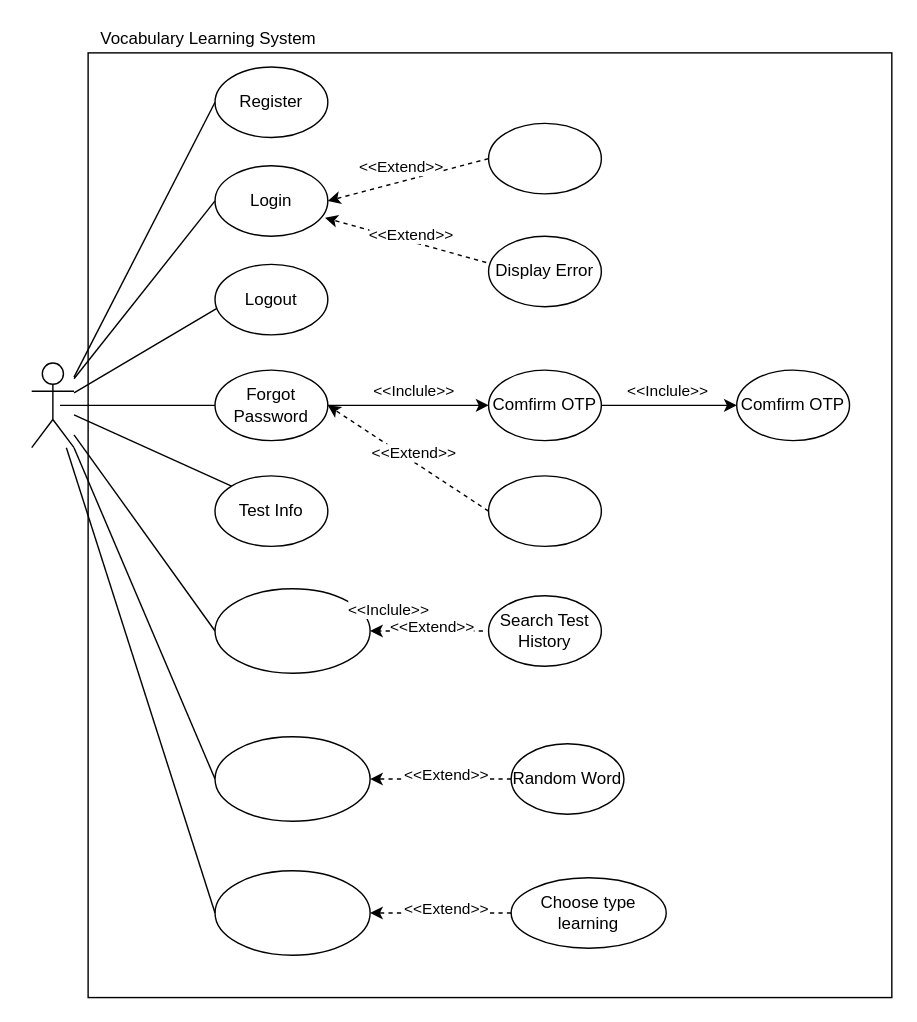
Some shapes in this 917 by 1022 pixel diagram are drawn without their labels. The centre of each missing label's shape, as x and y in pixels:
Learning: pixel 292 912
Make test: pixel 292 778
Send OTP: pixel 544 510
Student: pixel 52 405
Test History List: pixel 292 630
Verify Password: pixel 544 158
